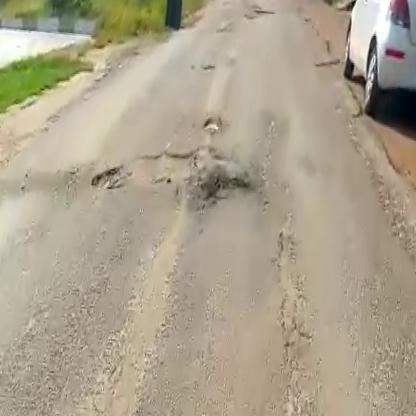pothole: (83, 139, 208, 200), (199, 166, 253, 208), (201, 111, 223, 137)
